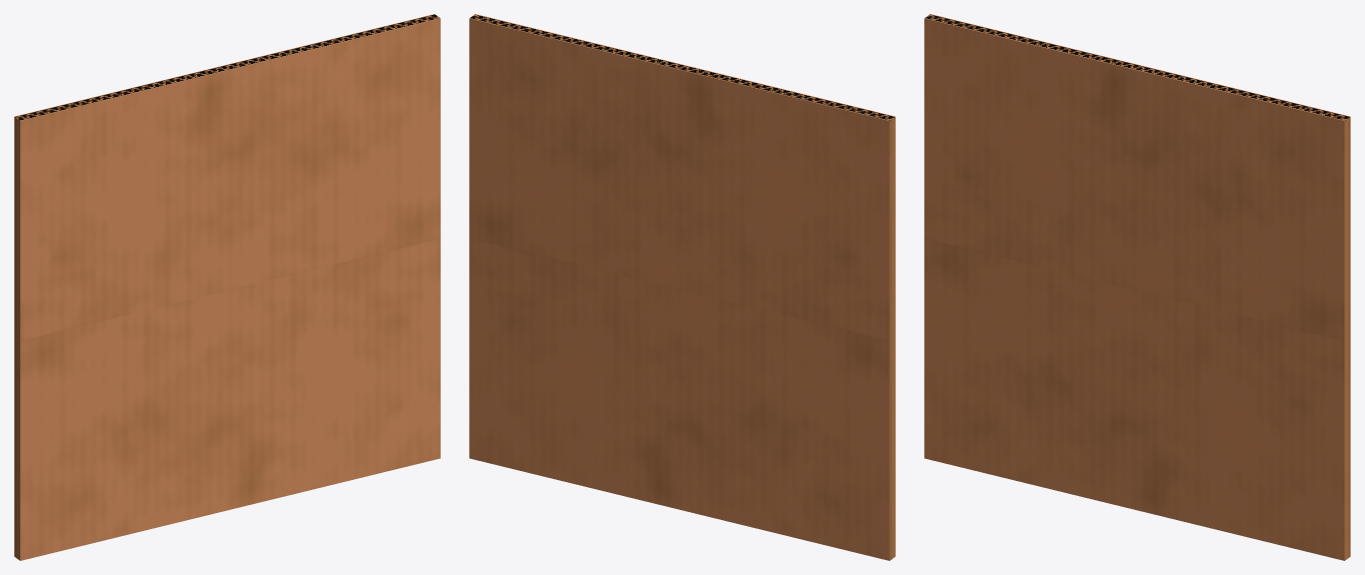
The model's file is M_CardboardPanels_2x2.fbx.
The picture shows the model from 3 angles, left to right: view 1: azimuth 30°, elevation 25°; view 2: azimuth 150°, elevation 25°; view 3: azimuth 330°, elevation 25°; orthographic projection.
Parts seen in each view (by area): view 1: Panels, Edges; view 2: Panels, Edges; view 3: Panels, Edges.
Part boxes in pixels (<box>): Panels: <box>20,18,440,560</box>; Edges: <box>14,14,440,560</box>; Panels: <box>469,18,889,560</box>; Edges: <box>469,14,895,560</box>; Panels: <box>924,18,1344,560</box>; Edges: <box>924,14,1350,560</box>.
Bounding box in the file's own units: 10 × 10 × 0.25.
Materials: 1 (1 with a texture image).
